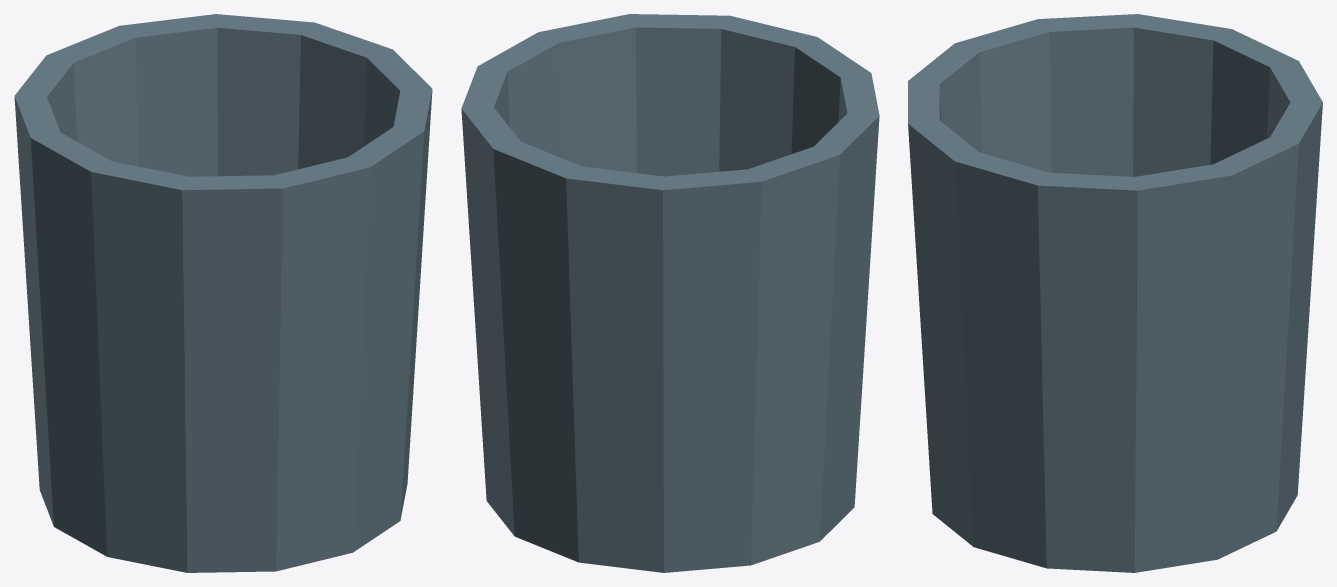
The model's file is waste bin.fbx.
3 views of the same model, side by side, from view 1: azimuth 30°, elevation 25°; view 2: azimuth 150°, elevation 25°; view 3: azimuth 270°, elevation 25° (orthographic).
Parts seen in each view (by area): view 1: waste bin; view 2: waste bin; view 3: waste bin.
Boxes of the visible parts, bbox=[...] form: waste bin: bbox=[14, 14, 432, 572]; waste bin: bbox=[461, 14, 879, 572]; waste bin: bbox=[908, 14, 1322, 572].
Size of the model in its own units: 49.23 by 51.05 by 48.87.
